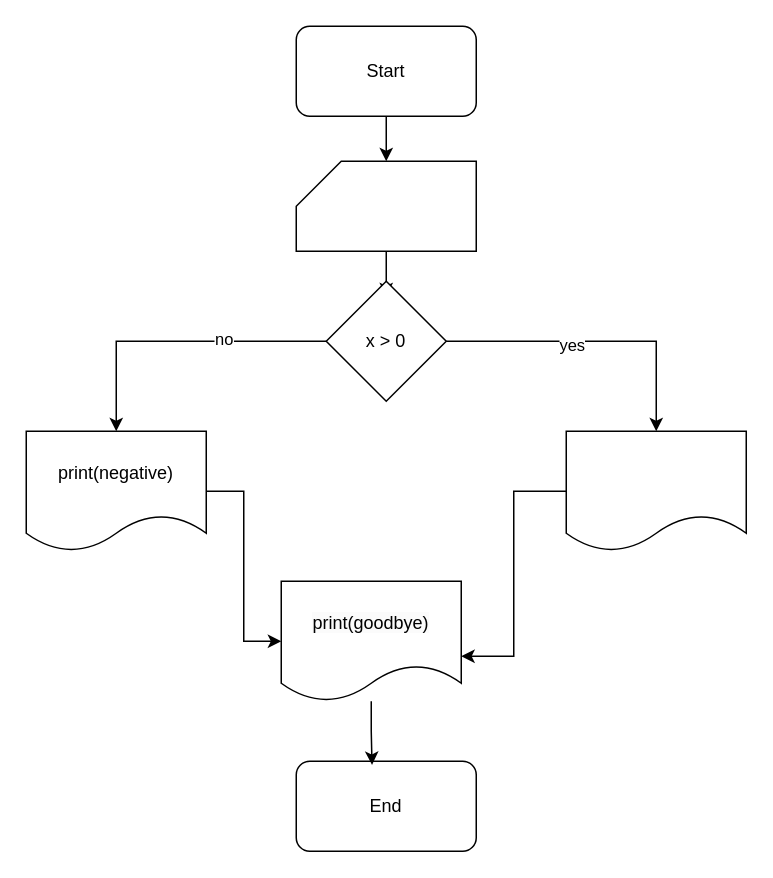
Image size: 773x878. Some labels were removed from this diagram. The shapes that lost their labels are listed below. From the top down, each one's box as (x1, y1, x2, y2) in pixels, then its label:
(295, 160, 476, 251): x (float) "enter a number"
(565, 430, 746, 551): print(positive)
